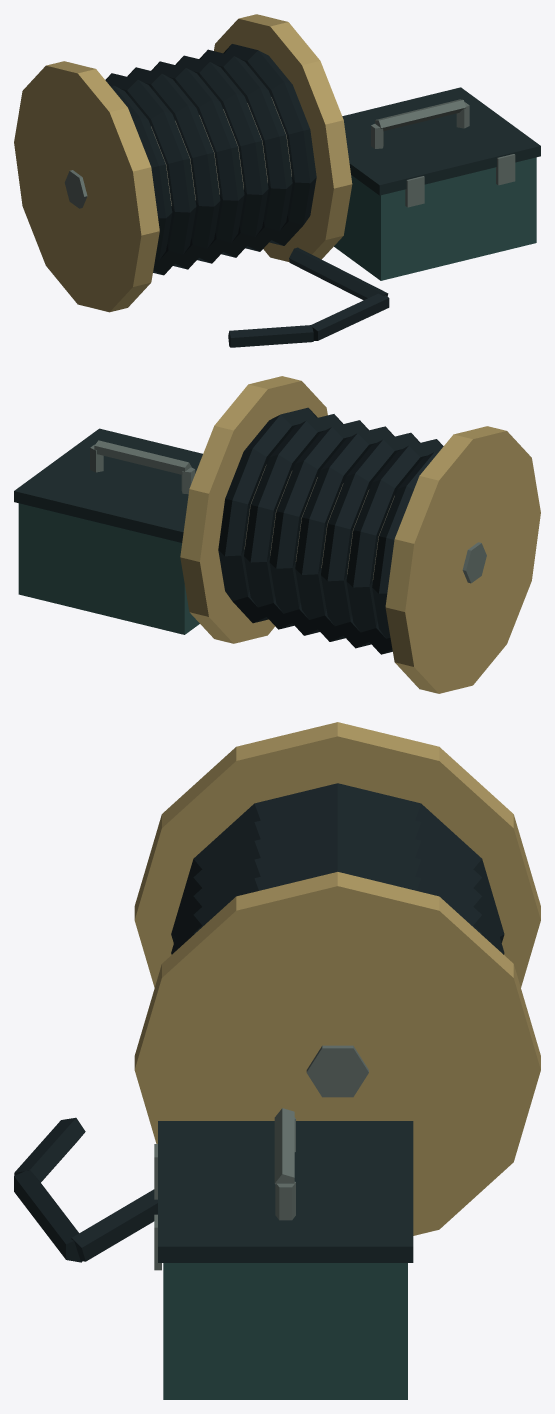
File: v115-yard-cable-reel.glb
The picture shows the model from 3 angles, top to bottom: view 1: azimuth 30°, elevation 25°; view 2: azimuth 150°, elevation 25°; view 3: azimuth 270°, elevation 25°; orthographic projection. The views are drawn at different scales.
Parts seen in each view (by area): view 1: cable-reel; view 2: cable-reel; view 3: cable-reel.
Boxes of the visible parts, x1,y1,x2,y2 form: cable-reel: (14, 14, 540, 347); cable-reel: (14, 376, 540, 693); cable-reel: (14, 722, 540, 1399).
Size of the model in its own units: 1.45 by 0.78 by 1.01.
